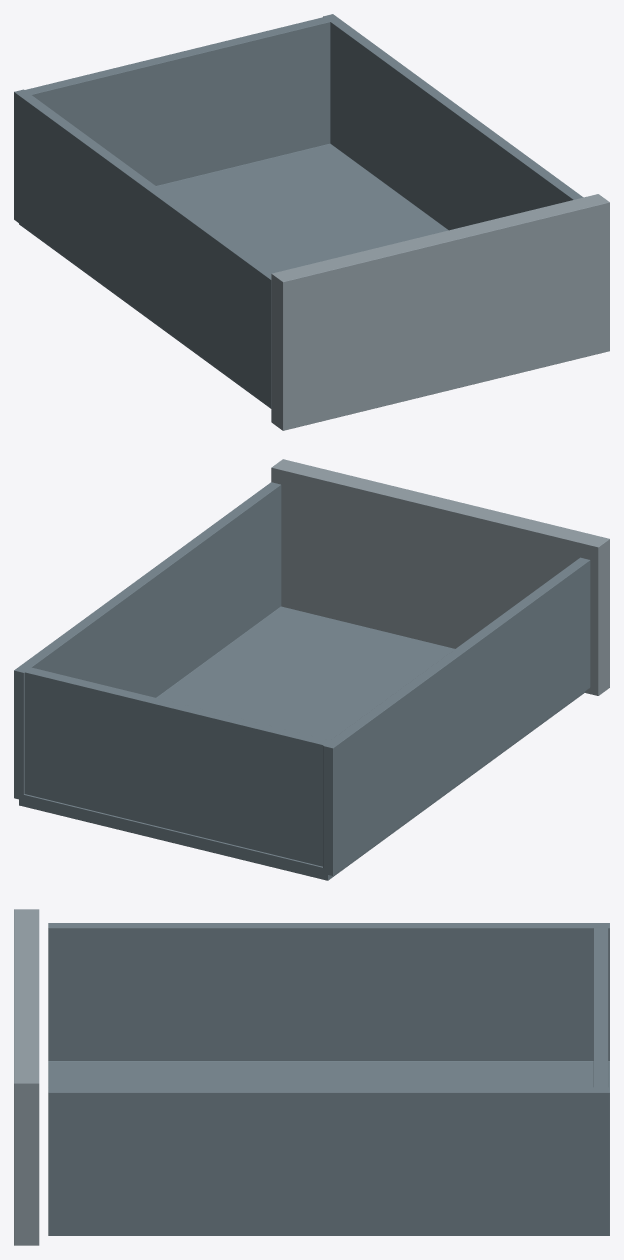
File: SM_Lab_Console__Cabinet_0_Drawer_0.fbx
3 renders of one model, top to bottom at view 1: azimuth 30°, elevation 25°; view 2: azimuth 150°, elevation 25°; view 3: azimuth 270°, elevation 25°, orthographic. The views are drawn at different scales.
Visible parts, largest first — view 1: SM_Lab_Console__Cabinet_0_Drawer_0; view 2: SM_Lab_Console__Cabinet_0_Drawer_0; view 3: SM_Lab_Console__Cabinet_0_Drawer_0.
Boxes of the visible parts, x1,y1,x2,y2 form: SM_Lab_Console__Cabinet_0_Drawer_0: (14, 14, 609, 430); SM_Lab_Console__Cabinet_0_Drawer_0: (14, 459, 609, 880); SM_Lab_Console__Cabinet_0_Drawer_0: (14, 909, 609, 1245).
Size of the model in its own units: 45.5 by 65.8 by 19.8.
